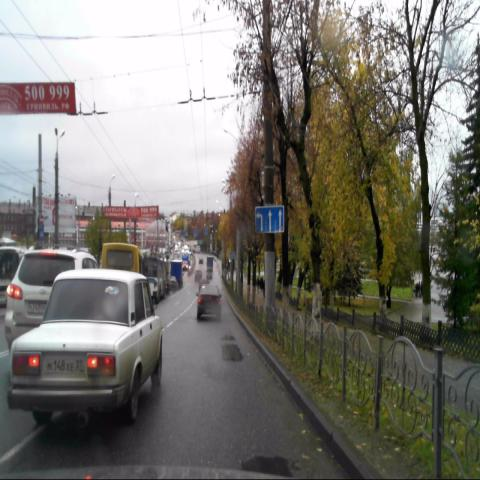5_15_1: (255, 206, 284, 232)
